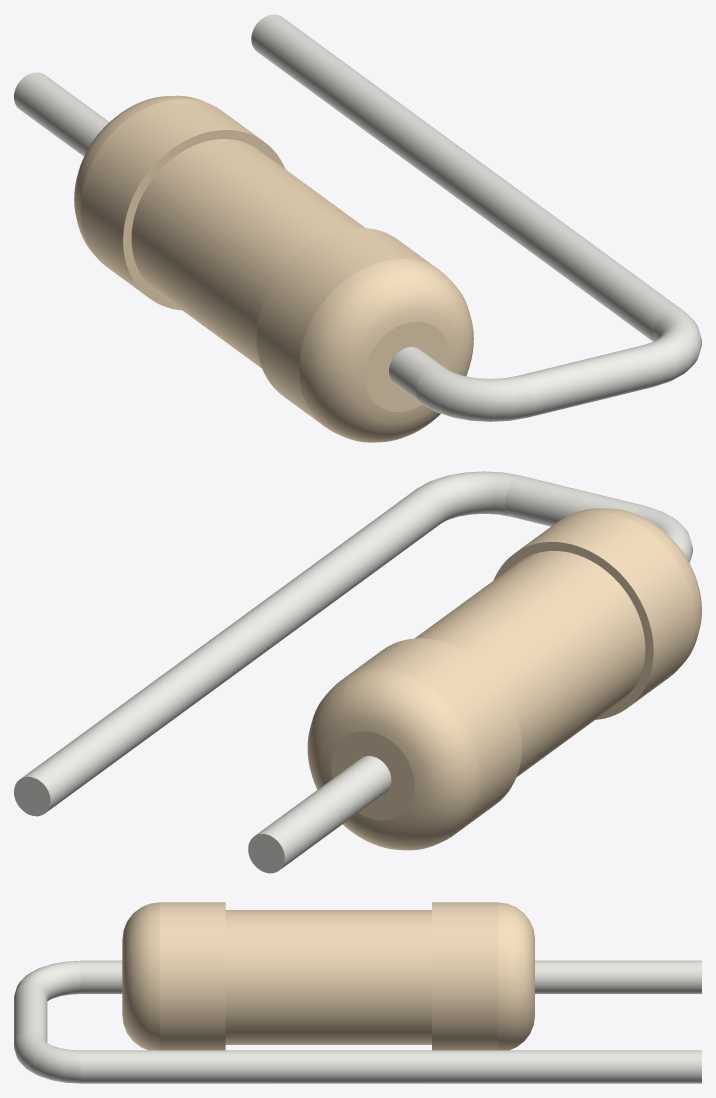
File: R_Axial_DIN0411_L9.9mm_D3.6mm_P5.08mm_Vertical.glb
3 views of the same model, one above another, from view 1: azimuth 30°, elevation 25°; view 2: azimuth 150°, elevation 25°; view 3: azimuth 270°, elevation 25° (orthographic). The views are drawn at different scales.
Parts seen in each view (by area): view 1: Shape_IndexedFaceSet.004, Shape_IndexedFaceSet.015, Shape_IndexedFaceSet.009, Shape_IndexedFaceSet.008, Shape_IndexedFaceSet, Shape_IndexedFaceSet.013, Shape_IndexedFaceSet.012, Shape_IndexedFaceSet.005, Shape_IndexedFaceSet.010, Shape_IndexedFaceSet.002, Shape_IndexedFaceSet.014, Shape_IndexedFaceSet.001 (+1 smaller); view 2: Shape_IndexedFaceSet.004, Shape_IndexedFaceSet.015, Shape_IndexedFaceSet.001, Shape_IndexedFaceSet, Shape_IndexedFaceSet.008, Shape_IndexedFaceSet.005, Shape_IndexedFaceSet.003, Shape_IndexedFaceSet.013, Shape_IndexedFaceSet.014, Shape_IndexedFaceSet.006, Shape_IndexedFaceSet.009, Shape_IndexedFaceSet.016 (+2 smaller); view 3: Shape_IndexedFaceSet.004, Shape_IndexedFaceSet.015, Shape_IndexedFaceSet, Shape_IndexedFaceSet.008, Shape_IndexedFaceSet.005, Shape_IndexedFaceSet.001, Shape_IndexedFaceSet.009, Shape_IndexedFaceSet.014, Shape_IndexedFaceSet.013, Shape_IndexedFaceSet.012, Shape_IndexedFaceSet.011.
Boxes of the visible parts, x1=… form: Shape_IndexedFaceSet.004: x1=131, y1=139, x2=364, y2=368; Shape_IndexedFaceSet.015: x1=251, y1=14, x2=682, y2=341; Shape_IndexedFaceSet.009: x1=299, y1=258, x2=473, y2=442; Shape_IndexedFaceSet.008: x1=256, y1=227, x2=437, y2=426; Shape_IndexedFaceSet: x1=80, y1=99, x2=261, y2=296; Shape_IndexedFaceSet.013: x1=519, y1=345, x2=658, y2=417; Shape_IndexedFaceSet.012: x1=416, y1=366, x2=533, y2=421; Shape_IndexedFaceSet.005: x1=14, y1=72, x2=108, y2=156; Shape_IndexedFaceSet.010: x1=365, y1=321, x2=449, y2=411; Shape_IndexedFaceSet.002: x1=123, y1=130, x2=285, y2=310; Shape_IndexedFaceSet.014: x1=643, y1=308, x2=701, y2=386; Shape_IndexedFaceSet.001: x1=74, y1=95, x2=208, y2=256; Shape_IndexedFaceSet.004: x1=415, y1=550, x2=645, y2=777; Shape_IndexedFaceSet.015: x1=21, y1=486, x2=447, y2=812; Shape_IndexedFaceSet.001: x1=307, y1=669, x2=479, y2=850; Shape_IndexedFaceSet: x1=342, y1=638, x2=521, y2=833; Shape_IndexedFaceSet.008: x1=517, y1=511, x2=695, y2=705; Shape_IndexedFaceSet.005: x1=254, y1=756, x2=391, y2=869; Shape_IndexedFaceSet.003: x1=331, y1=731, x2=414, y2=820; Shape_IndexedFaceSet.013: x1=505, y1=475, x2=643, y2=526; Shape_IndexedFaceSet.014: x1=419, y1=471, x2=520, y2=522; Shape_IndexedFaceSet.006: x1=493, y1=542, x2=653, y2=719; Shape_IndexedFaceSet.009: x1=569, y1=508, x2=701, y2=666; Shape_IndexedFaceSet.016: x1=14, y1=776, x2=50, y2=816; Shape_IndexedFaceSet.004: x1=225, y1=910, x2=431, y2=1044; Shape_IndexedFaceSet.015: x1=80, y1=1050, x2=701, y2=1083; Shape_IndexedFaceSet: x1=432, y1=902, x2=497, y2=1050; Shape_IndexedFaceSet.008: x1=160, y1=902, x2=225, y2=1050; Shape_IndexedFaceSet.005: x1=535, y1=960, x2=701, y2=993; Shape_IndexedFaceSet.001: x1=497, y1=902, x2=534, y2=1050; Shape_IndexedFaceSet.009: x1=122, y1=902, x2=159, y2=1050; Shape_IndexedFaceSet.014: x1=14, y1=1030, x2=80, y2=1083; Shape_IndexedFaceSet.013: x1=14, y1=983, x2=47, y2=1042; Shape_IndexedFaceSet.012: x1=15, y1=961, x2=80, y2=1000; Shape_IndexedFaceSet.011: x1=80, y1=960, x2=122, y2=993.
Size of the model in its own units: 2.87 by 1.42 by 6.5.
